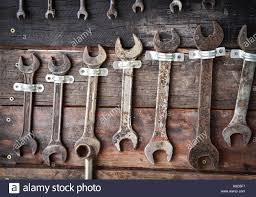wrench: (186, 18, 224, 170), (142, 26, 181, 165), (219, 23, 255, 147), (110, 31, 142, 152), (40, 53, 71, 166), (73, 41, 106, 142), (12, 52, 40, 157)
